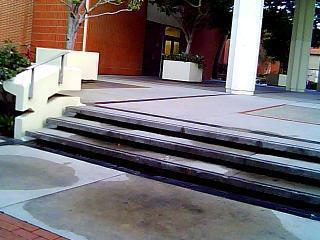Escaleras: (32, 104, 319, 207)
